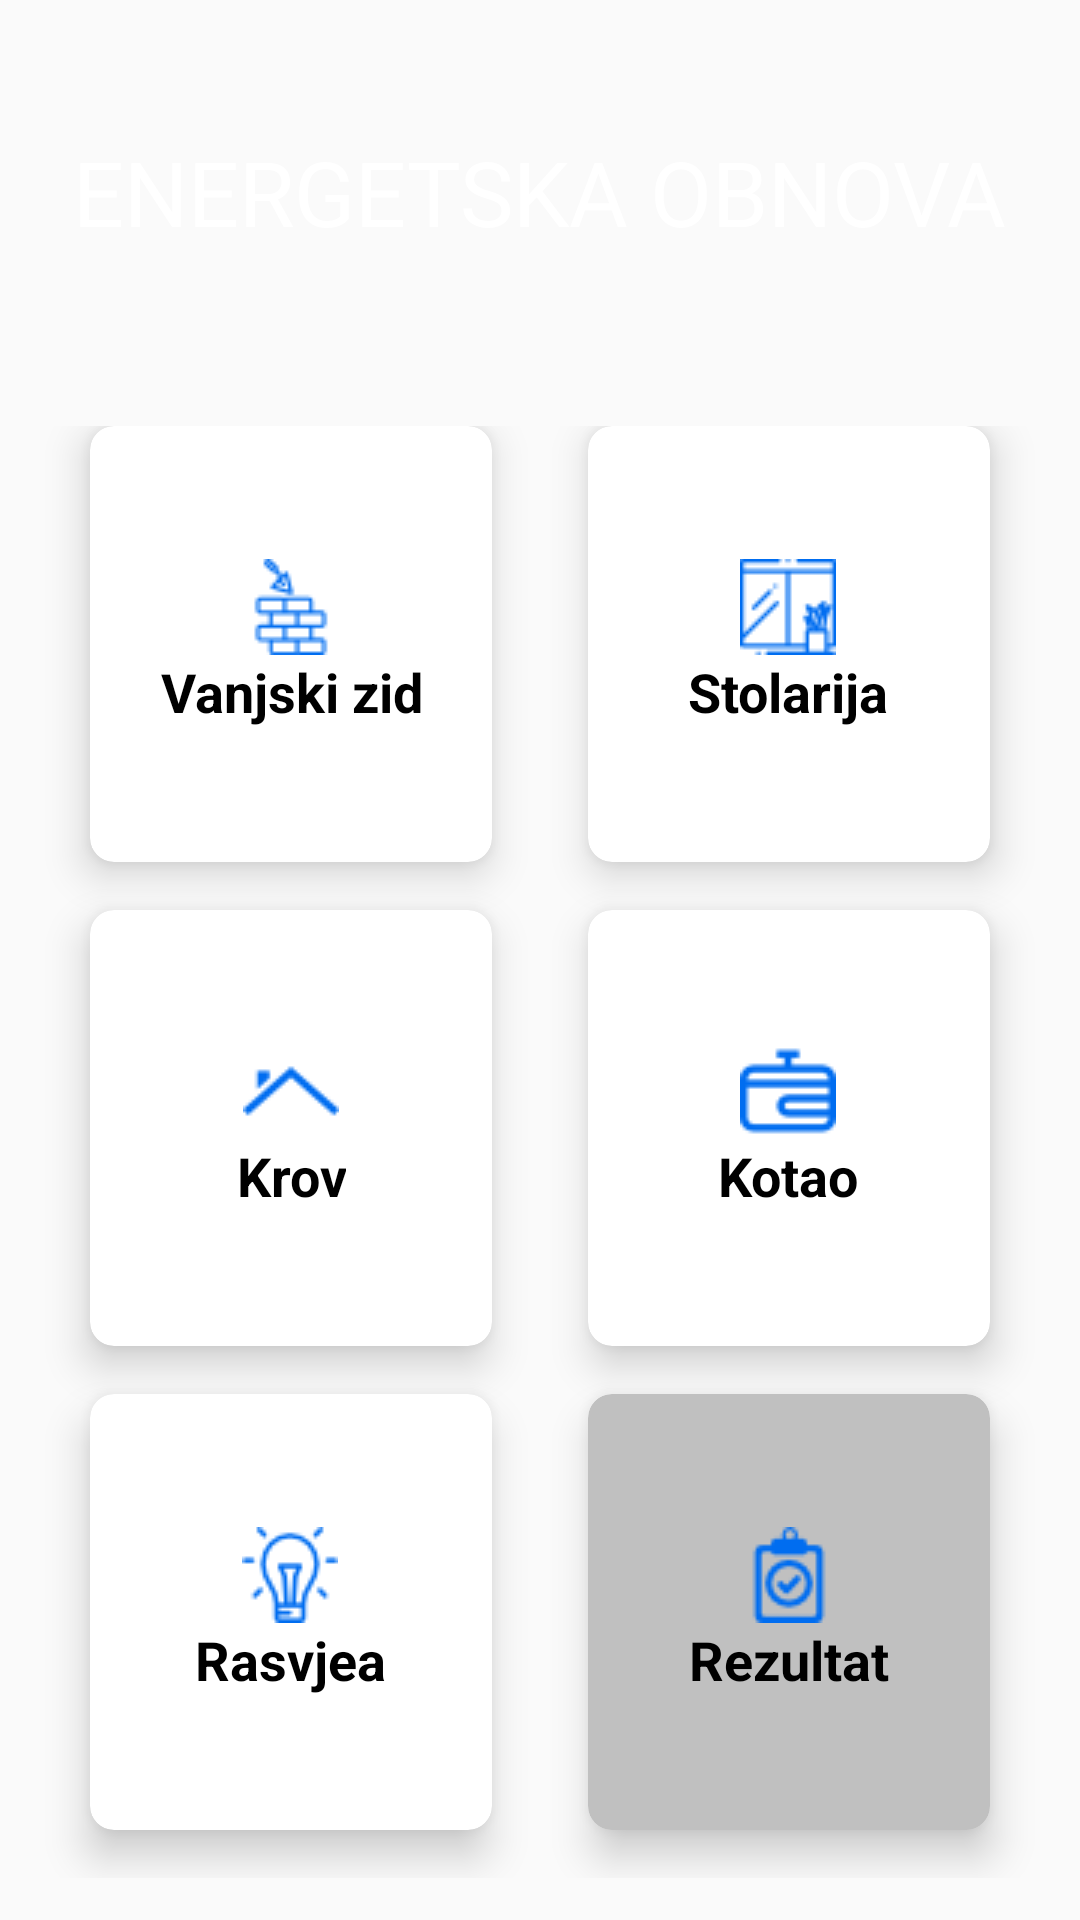

Icon click points for this 1080x1920 phone screenshot, format [x,y]:
glass: [788,607]
idea: [290,1575]
